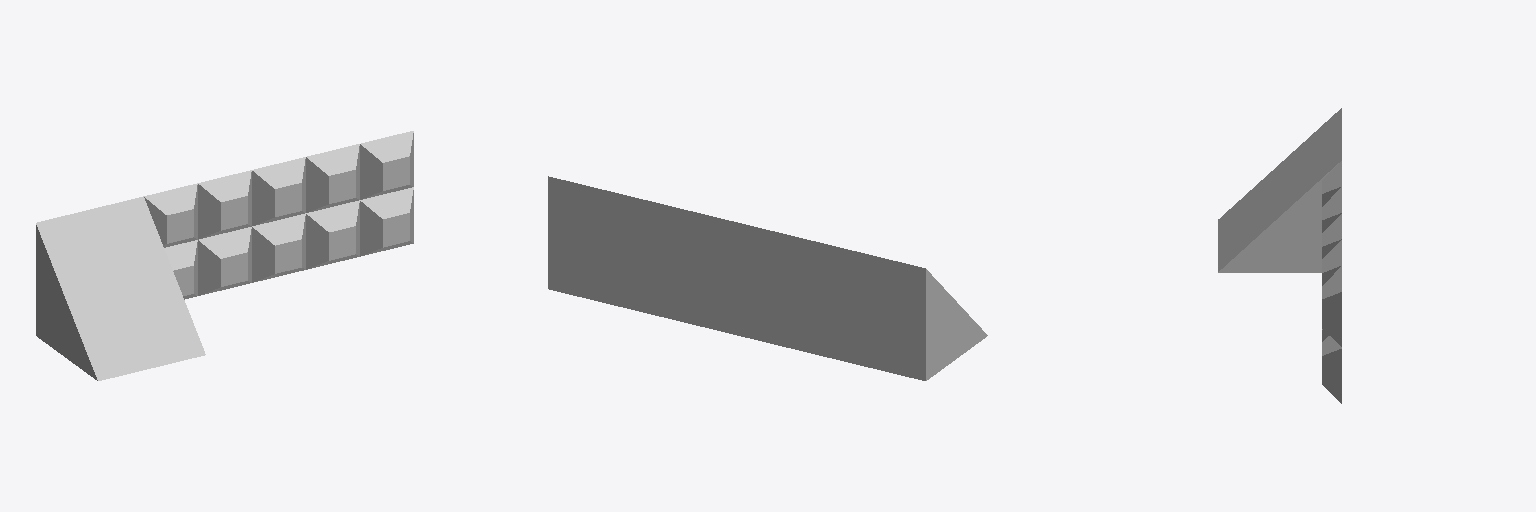
Rendered from SUPPORT v1.obj.
3 views of the same model, side by side, from view 1: azimuth 30°, elevation 25°; view 2: azimuth 150°, elevation 25°; view 3: azimuth 270°, elevation 25° (orthographic).
Visible parts, largest first — view 1: Body2:1, Body4, Body3, Body5, Body7, Body9, Body8, Body2, Body10, Body6, Body1; view 2: Body2:1, Body9, Body2, Body3, Body6, Body10, Body1, Body4, Body5, Body7, Body8; view 3: Body2:1, Body10, Body5, Body9, Body7, Body6.
Part boxes in pixels (left/top/right/bottom): Body2:1: left=36, top=196, right=205, bottom=380; Body4: left=306, top=200, right=359, bottom=269; Body3: left=252, top=213, right=305, bottom=282; Body5: left=360, top=187, right=413, bottom=256; Body7: left=198, top=170, right=251, bottom=239; Body9: left=306, top=144, right=359, bottom=212; Body8: left=252, top=157, right=305, bottom=225; Body2: left=198, top=227, right=251, bottom=295; Body10: left=360, top=131, right=413, bottom=199; Body6: left=144, top=183, right=197, bottom=247; Body1: left=164, top=240, right=197, bottom=299; Body2:1: left=818, top=242, right=987, bottom=380; Body9: left=602, top=190, right=655, bottom=258; Body2: left=710, top=272, right=763, bottom=341; Body3: left=656, top=259, right=709, bottom=328; Body6: left=764, top=229, right=817, bottom=298; Body10: left=548, top=176, right=601, bottom=245; Body1: left=764, top=286, right=817, bottom=354; Body4: left=602, top=246, right=655, bottom=315; Body5: left=548, top=233, right=601, bottom=301; Body7: left=710, top=216, right=763, bottom=284; Body8: left=656, top=203, right=709, bottom=271; Body2:1: left=1218, top=108, right=1341, bottom=272; Body10: left=1322, top=266, right=1341, bottom=346; Body5: left=1322, top=336, right=1341, bottom=403; Body9: left=1322, top=240, right=1341, bottom=285; Body7: left=1322, top=187, right=1341, bottom=232; Body6: left=1322, top=161, right=1341, bottom=206.
Size of the model in its own units: 140 by 40 by 40.